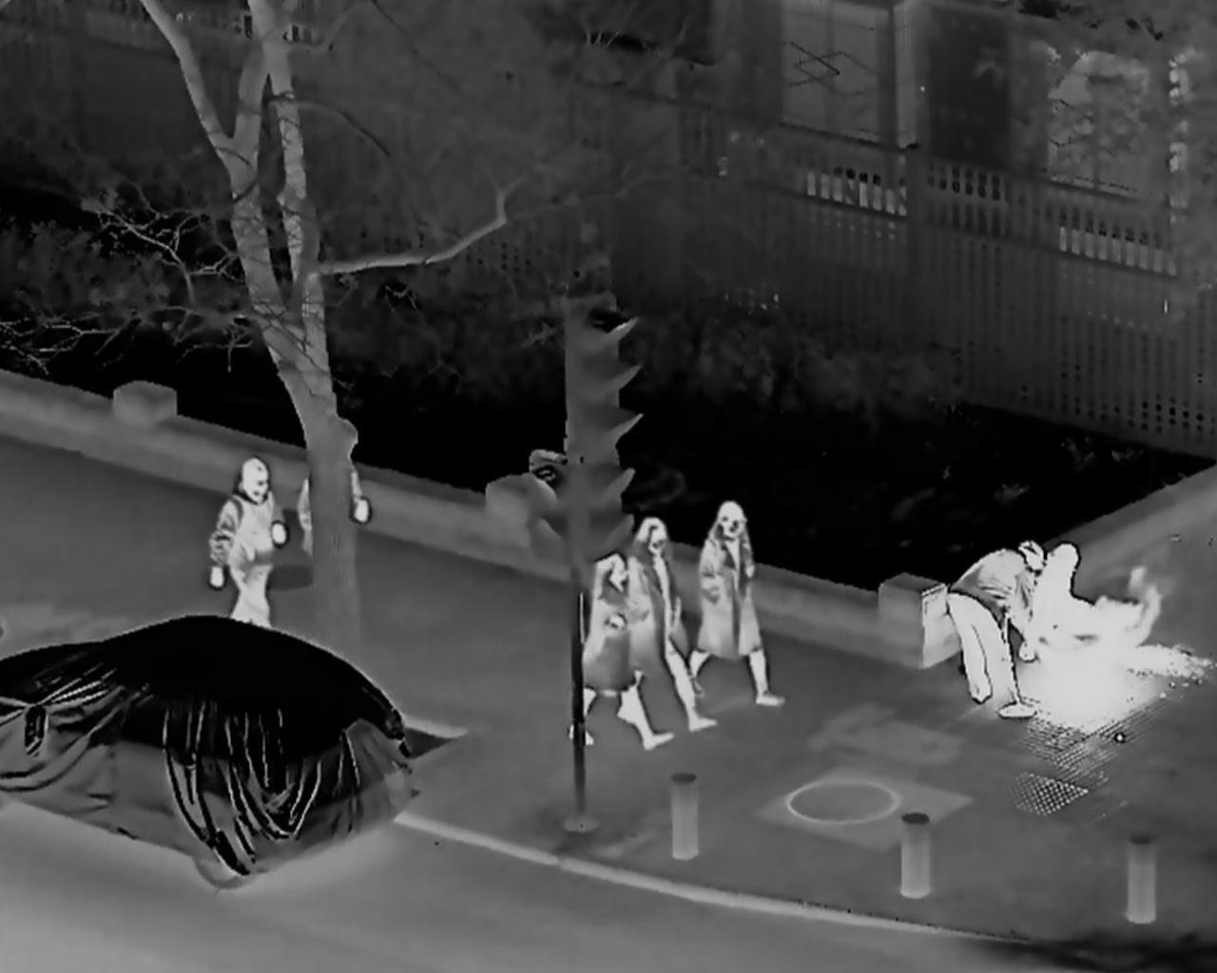person: (619, 520, 716, 735), (683, 501, 781, 707), (578, 552, 668, 750), (950, 538, 1042, 711), (209, 458, 290, 648), (1023, 540, 1106, 663)
